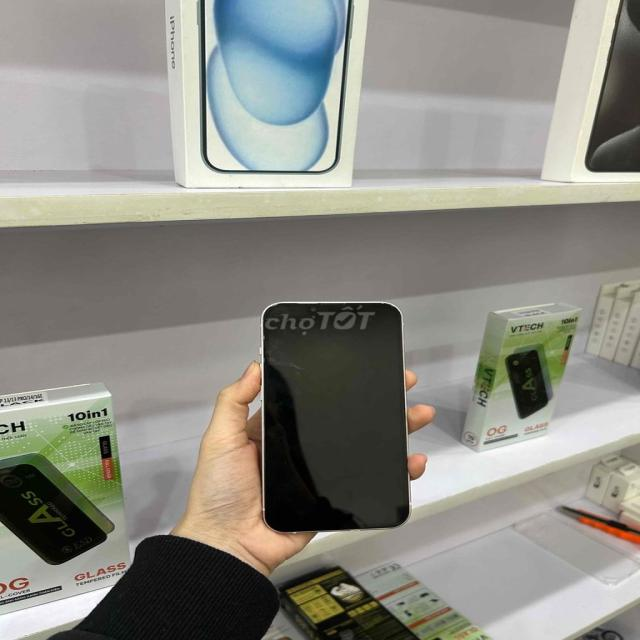gen_12_13: (253, 298, 409, 536)
